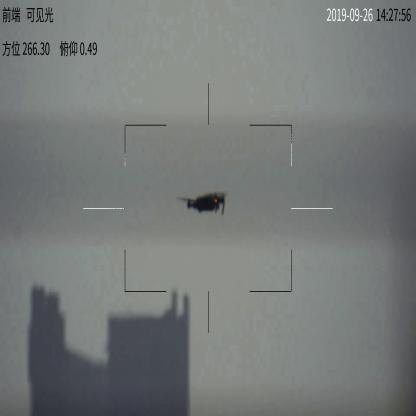uav: (173, 191, 225, 216)
